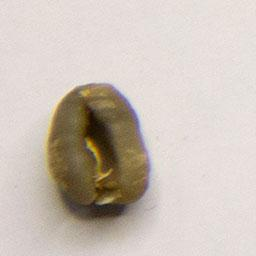peaberry: (43, 79, 153, 211)
